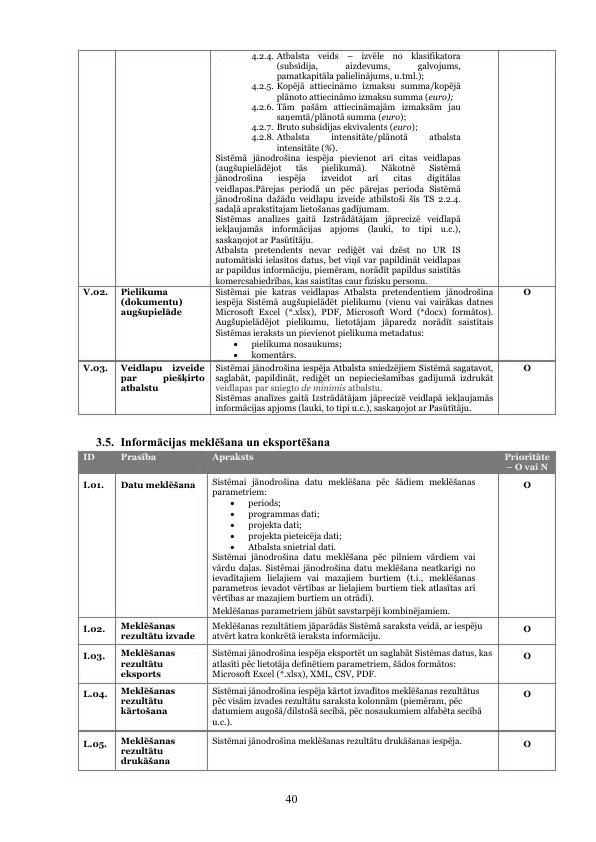table: (73, 43, 557, 417), (75, 448, 558, 774)
text: (92, 434, 331, 451)
